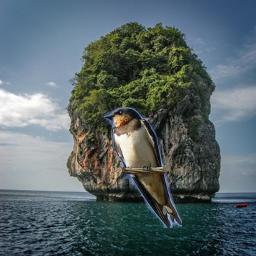Swallow: (103, 107, 182, 228)
